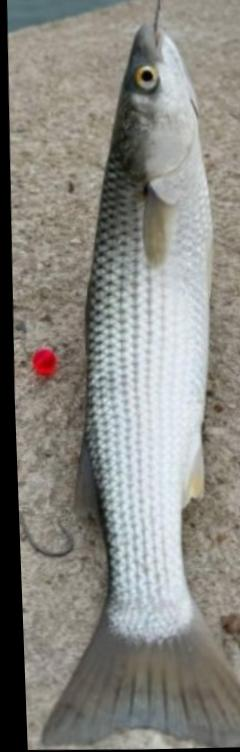fish: (27, 19, 240, 749)
